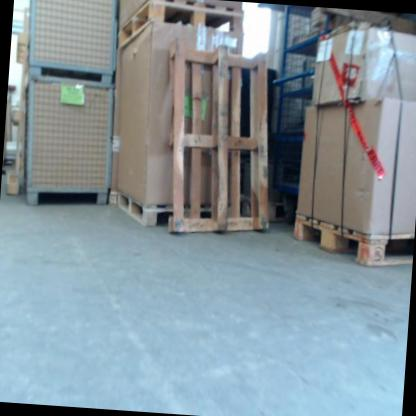pallet: (153, 36, 283, 243), (114, 0, 247, 60), (288, 214, 416, 273), (114, 186, 231, 235), (236, 192, 290, 227)
stillage: (20, 75, 115, 212), (23, 11, 118, 86)
